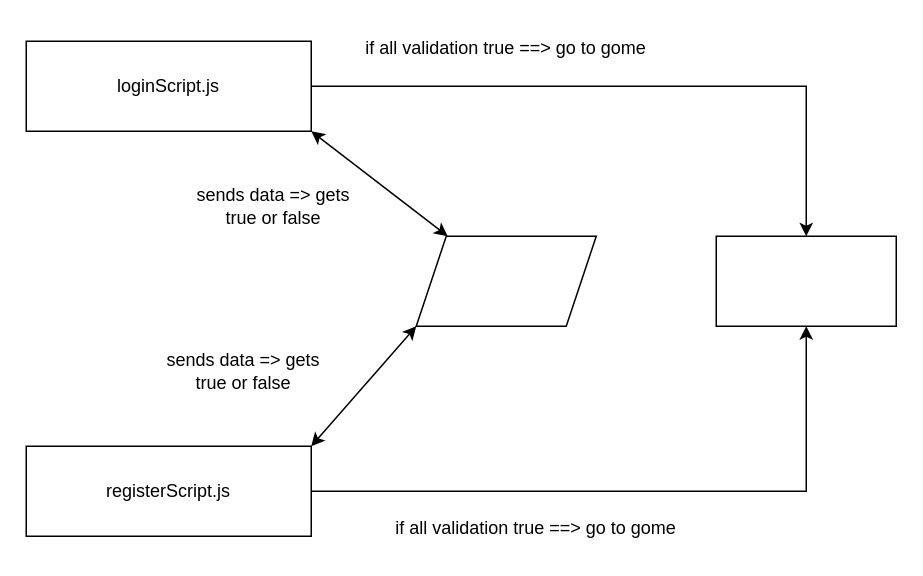
This 923x576 diagram has some shape labels left out. Here are the shapes that lost their labels. From the top down, the box of each, then its label:
(415, 235, 596, 326): controller.js
(715, 235, 896, 326): home
